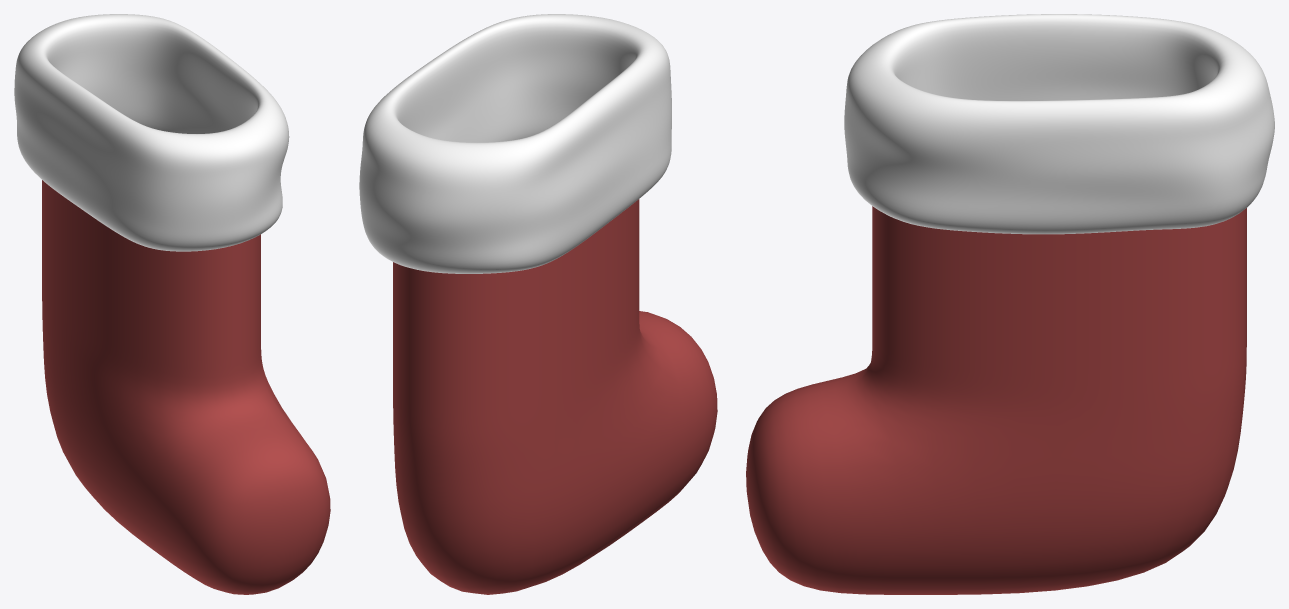
File: Sock01.fbx
The picture shows the model from 3 angles, left to right: view 1: azimuth 30°, elevation 25°; view 2: azimuth 150°, elevation 25°; view 3: azimuth 270°, elevation 25°; orthographic projection. The views are drawn at different scales.
Parts seen in each view (by area): view 1: Sock 01; view 2: Sock 01; view 3: Sock 01.
Boxes of the visible parts, <box> form: Sock 01: <box>14,14,330,594</box>; Sock 01: <box>359,14,717,594</box>; Sock 01: <box>746,14,1274,594</box>.
Bounding box in the file's own units: 57.96 × 144 × 131.
